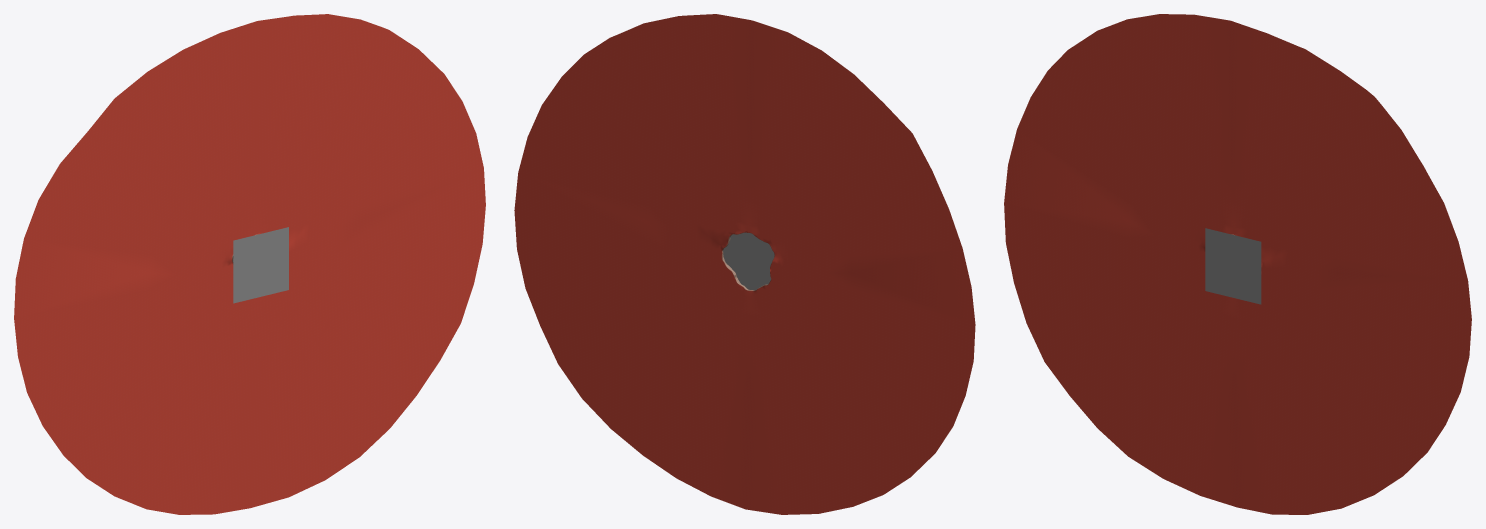
Rendered from MiddleView000.obj.
3 views of the same model, side by side, from view 1: azimuth 30°, elevation 25°; view 2: azimuth 150°, elevation 25°; view 3: azimuth 330°, elevation 25° (orthographic).
Parts seen in each view (by area): view 1: pPipe2__GroundSandRed00_rep, pPlane124__Black00; view 2: pPipe2__GroundSandRed00_rep, pPlane124__Black00; view 3: pPipe2__GroundSandRed00_rep, pPlane124__Black00.
Boxes of the visible parts, left/top/right/bottom form: pPipe2__GroundSandRed00_rep: left=14, top=14, right=485, bottom=514; pPlane124__Black00: left=233, top=227, right=288, bottom=303; pPipe2__GroundSandRed00_rep: left=514, top=14, right=975, bottom=514; pPlane124__Black00: left=723, top=232, right=774, bottom=290; pPipe2__GroundSandRed00_rep: left=1004, top=14, right=1471, bottom=514; pPlane124__Black00: left=1205, top=228, right=1261, bottom=304.
Size of the model in its own units: 1000000 by 1000000 by 38477.
5 materials, 3 textured.
